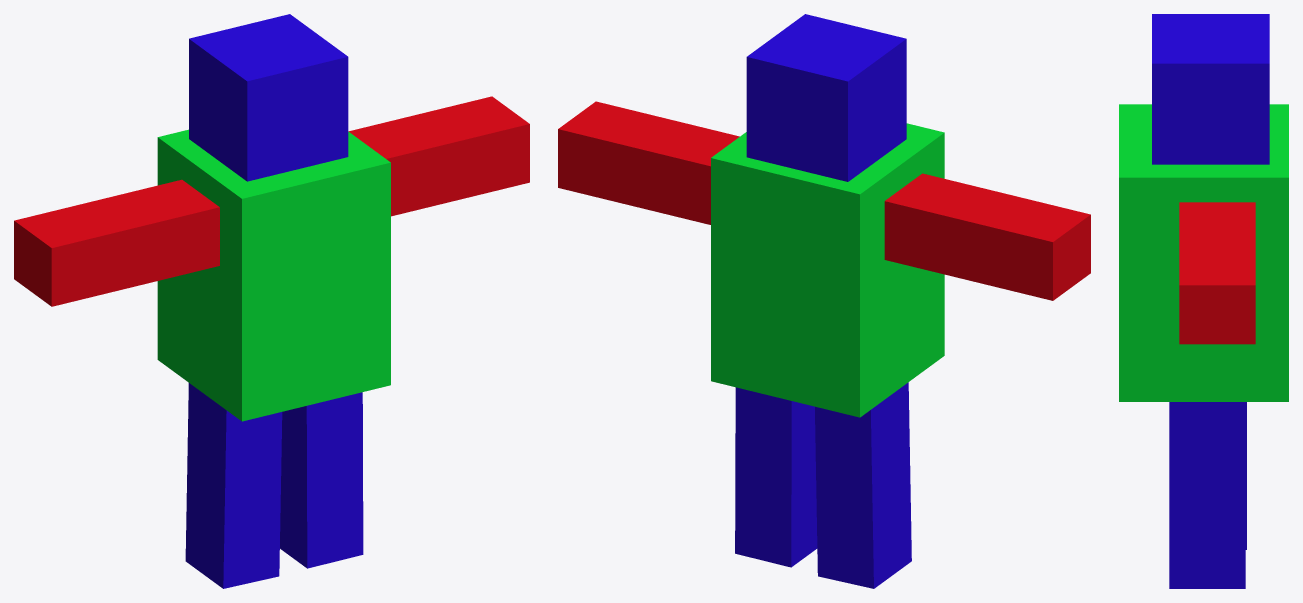
File: blockMan.fbx
3 renders of one model, left to right at view 1: azimuth 30°, elevation 25°; view 2: azimuth 150°, elevation 25°; view 3: azimuth 270°, elevation 25°, orthographic.
Visible parts, largest first — view 1: Cube; view 2: Cube; view 3: Cube.
Boxes of the visible parts, <box> form: Cube: <box>14,14,529,588</box>; Cube: <box>558,14,1090,588</box>; Cube: <box>1119,14,1288,588</box>.
Size of the model in its own units: 973 by 980 by 293.
